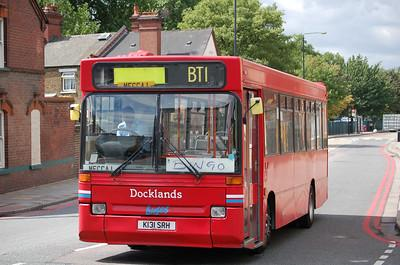motorbike: (38, 34, 364, 244)
